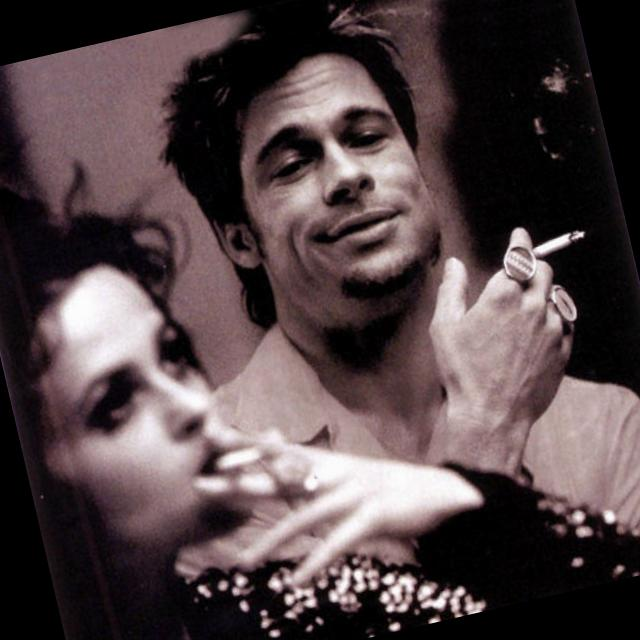cigarette: (531, 225, 585, 257)
